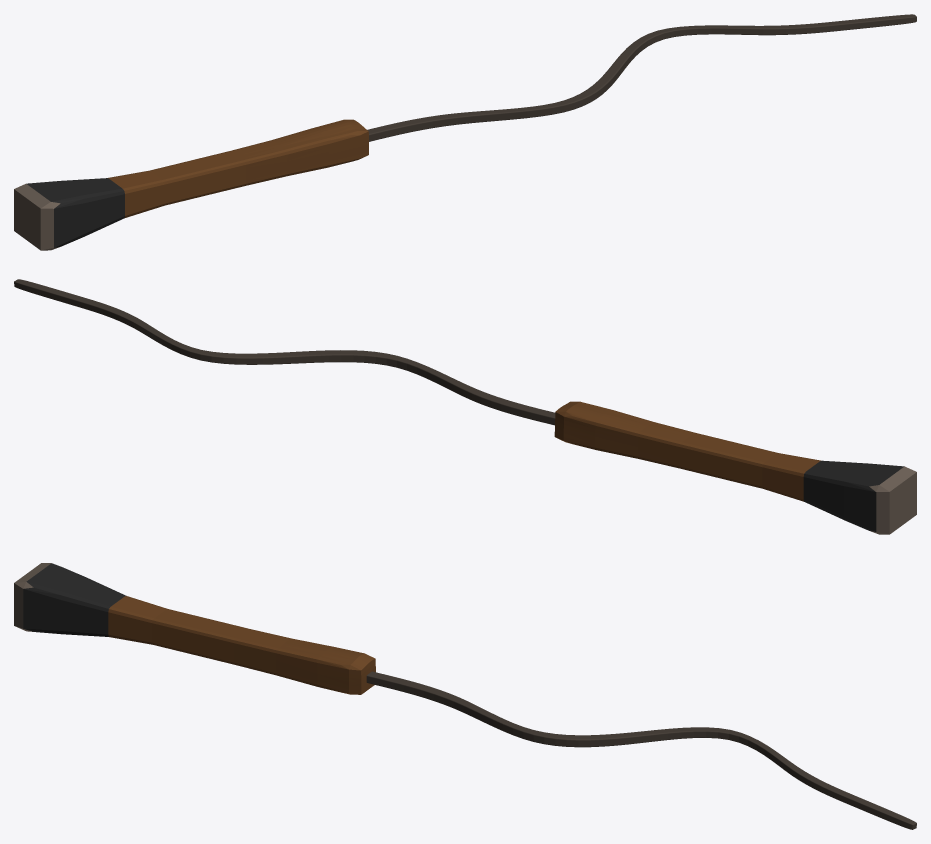
Rendered from камшы.fbx.
3 renders of one model, top to bottom at view 1: azimuth 30°, elevation 25°; view 2: azimuth 150°, elevation 25°; view 3: azimuth 330°, elevation 25°, orthographic. The views are drawn at different scales.
Parts seen in each view (by area): view 1: камшы; view 2: камшы; view 3: камшы.
Part boxes in pixels (<box>): камшы: <box>14,14,916,250</box>; камшы: <box>14,279,916,534</box>; камшы: <box>14,563,916,829</box>.
Size of the model in its own units: 3847 by 203 by 379.
